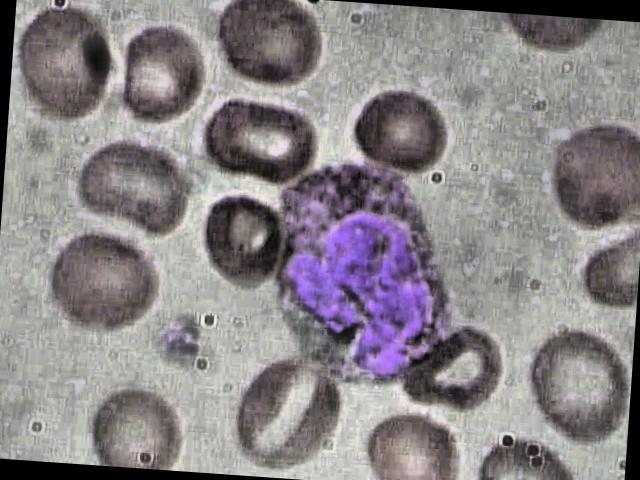RBC: (40, 216, 174, 346), (7, 0, 123, 130), (518, 116, 640, 235), (230, 346, 344, 472), (520, 320, 634, 445), (65, 132, 198, 239), (387, 312, 520, 419), (194, 84, 326, 191), (182, 186, 314, 292), (204, 0, 336, 98), (106, 17, 212, 132), (348, 74, 454, 172), (81, 374, 187, 470), (349, 408, 474, 480)
WBC: (253, 155, 492, 396)
